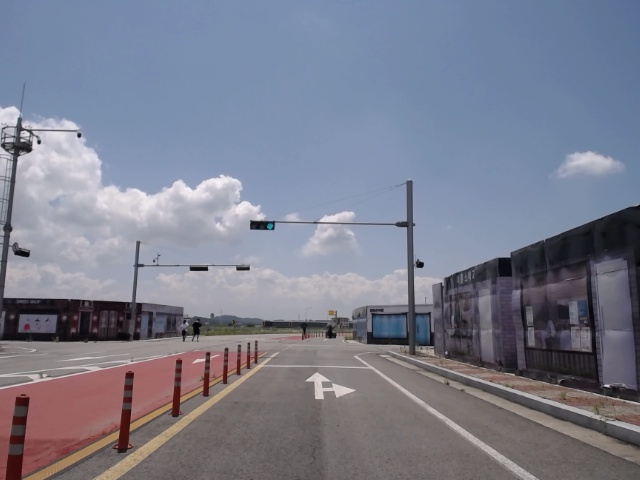green_3: (252, 220, 275, 231)
